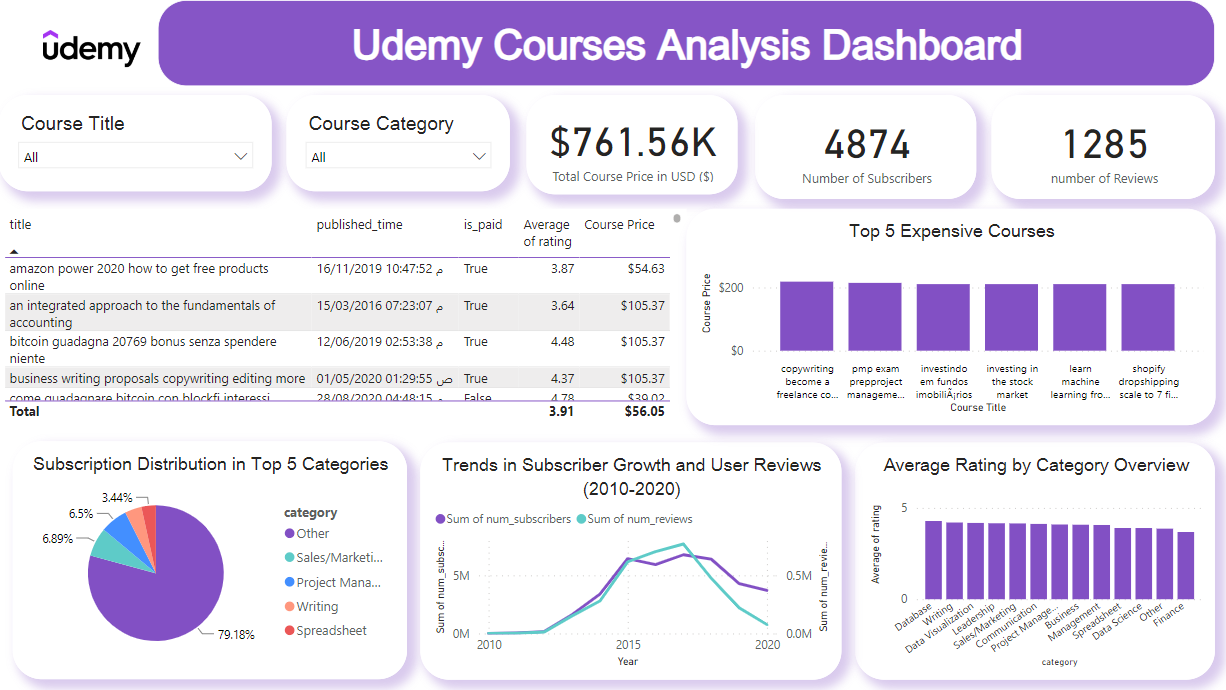

Layout of this report page (visuals, bound fields, positions):
{"tool":"powerbi","page":{"name":"Page 1","canvas":[1280,720],"ordinal":0},"visuals":[{"type":"pieChart","title":"Subscription Distribution in Top 5 Categories","fields":{"Category":["Cleaned_Udemy_data.category"],"Y":["Sum(Cleaned_Udemy_data.num_subscribers)"]},"box":[14.6,458.6,410,247],"z":0},{"type":"columnChart","title":"Average Rating by Category Overview","fields":{"Category":["Cleaned_Udemy_data.category"],"Y":["Avg(Cleaned_Udemy_data.rating)"]},"box":[890.1,459.5,373.9,246],"z":1000},{"type":"lineChart","title":"Trends in Subscriber Growth and User Reviews (2010-2020)","fields":{"Category":["Cleaned_Udemy_data.Year"],"Y":["Sum(Cleaned_Udemy_data.num_subscribers)"],"Y2":["Sum(Cleaned_Udemy_data.num_reviews)"]},"box":[437.8,459.5,437.8,246],"z":2000},{"type":"image","box":[0,8.5,194.6,74.2],"z":3000},{"type":"slicer","fields":{"Values":["Cleaned_Udemy_data.title"]},"box":[0,98.5,283.5,99.8],"z":4000},{"type":"slicer","fields":{"Values":["Cleaned_Udemy_data.category"]},"box":[299.3,98.5,232.4,99.8],"z":5000},{"type":"card","fields":{"Values":["Count(Cleaned_Udemy_data.num_subscribers)"]},"box":[785.9,98.5,229.9,108.3],"z":6000},{"type":"card","fields":{"Values":["Count(Cleaned_Udemy_data.num_reviews)"]},"box":[1031.6,98.5,232.4,108.3],"z":7000},{"type":"card","fields":{"Values":["Sum(Cleaned_Udemy_data.price_detail__amount)"]},"box":[548.7,98.5,219,103.4],"z":8000},{"type":"tableEx","fields":{"Values":["Cleaned_Udemy_data.title","Cleaned_Udemy_data.published_time","Cleaned_Udemy_data.is_paid","Avg(Cleaned_Udemy_data.rating)","Avg(Cleaned_Udemy_data.price_detail__amount)"]},"box":[0,216.5,714.1,225.1],"z":9000},{"type":"textbox","box":[165.2,0,1098.7,89.2],"z":10000},{"type":"columnChart","title":"Top 5 Expensive Courses","fields":{"Category":["Cleaned_Udemy_data.title"],"Y":["Sum(Cleaned_Udemy_data.price_detail__amount)"]},"box":[714.1,216.5,549.9,225.1],"z":11000}]}

Visuals, with their boxes in screenshot pixels (x1, y1, x2, y2), scaled from the page's 1280x720 canvas onto the 1226x690 screenshot:
"Subscription Distribution in Top 5 Categories" pieChart: select_region(14, 439, 407, 676)
"Average Rating by Category Overview" columnChart: select_region(853, 440, 1211, 676)
"Trends in Subscriber Growth and User Reviews (2010-2020)" lineChart: select_region(419, 440, 839, 676)
image: select_region(0, 8, 186, 79)
slicer - Cleaned_Udemy_data.title: select_region(0, 94, 272, 190)
slicer - Cleaned_Udemy_data.category: select_region(287, 94, 509, 190)
card - Count(Cleaned_Udemy_data.num_subscribers): select_region(753, 94, 973, 198)
card - Count(Cleaned_Udemy_data.num_reviews): select_region(988, 94, 1211, 198)
card - Sum(Cleaned_Udemy_data.price_detail__amount): select_region(526, 94, 735, 193)
tableEx - Cleaned_Udemy_data.title x Cleaned_Udemy_data.published_time: select_region(0, 207, 684, 423)
textbox: select_region(158, 0, 1211, 85)
"Top 5 Expensive Courses" columnChart: select_region(684, 207, 1211, 423)
